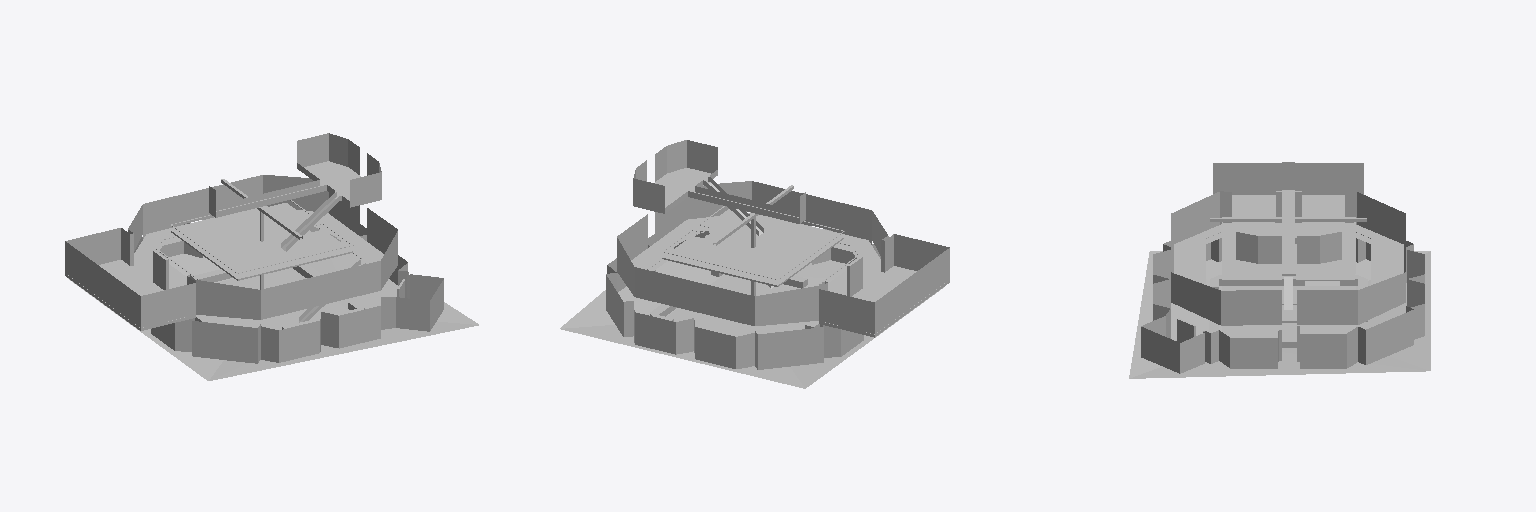
Rendered from old_homeroom2-v2.1-col.obj.
3 renders of one model, left to right at view 1: azimuth 30°, elevation 25°; view 2: azimuth 150°, elevation 25°; view 3: azimuth 270°, elevation 25°, orthographic.
Parts seen in each view (by area): view 1: Center_main_floor_Plane.004; view 2: Center_main_floor_Plane.004; view 3: Center_main_floor_Plane.004.
Boxes of the visible parts, x1=… form: Center_main_floor_Plane.004: x1=65, y1=133, x2=478, y2=380; Center_main_floor_Plane.004: x1=560, y1=140, x2=949, y2=388; Center_main_floor_Plane.004: x1=1129, y1=162, x2=1430, y2=378.
Bounding box in the file's own units: 38.72 × 18.63 × 34.01.